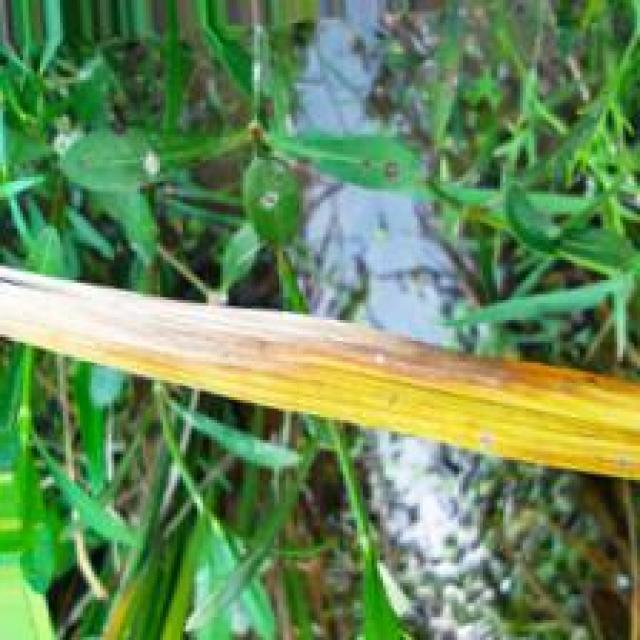Bacterial_Leaf_Blight: (0, 267, 639, 396), (105, 349, 638, 477)
